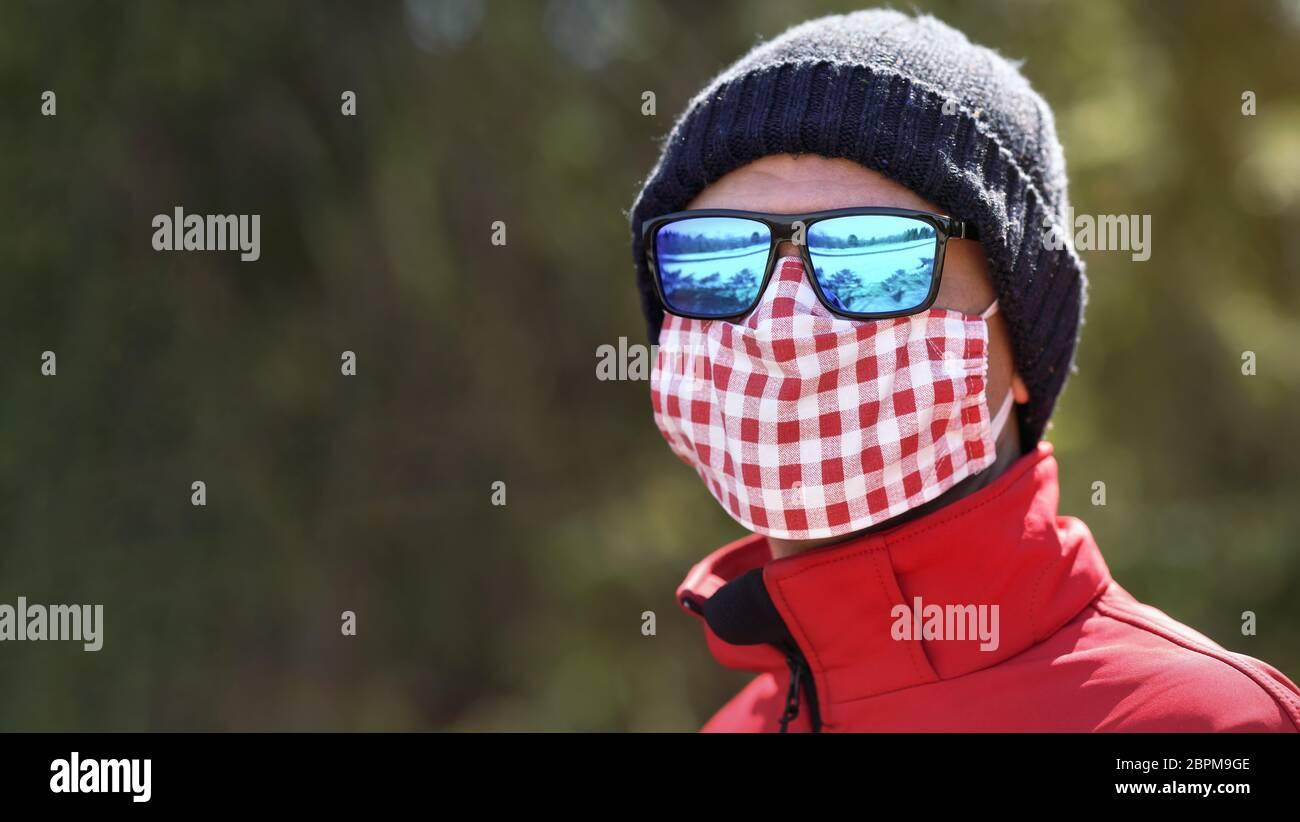cap: (616, 0, 1098, 476)
mask: (636, 254, 1004, 544)
sunglasses: (642, 198, 950, 318)
